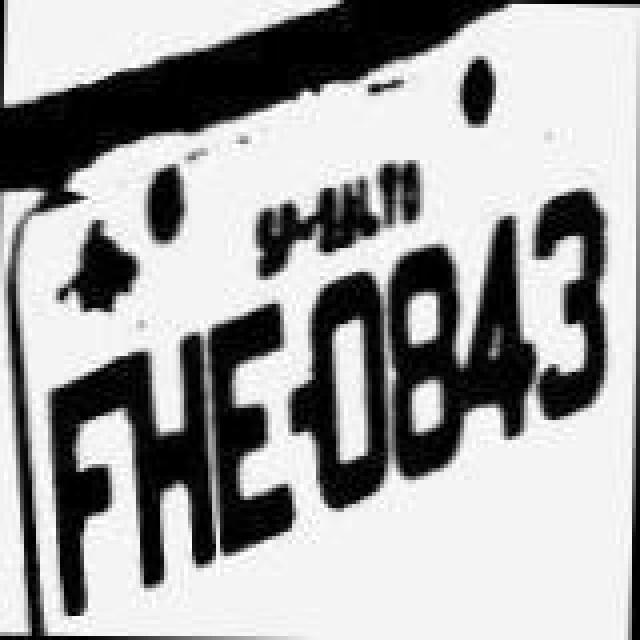3: (532, 182, 616, 442)
4: (462, 206, 542, 474)
8: (388, 240, 472, 492)
E: (202, 296, 302, 556)
F: (46, 354, 130, 614)
H: (122, 334, 222, 590)
O: (306, 272, 398, 512)
